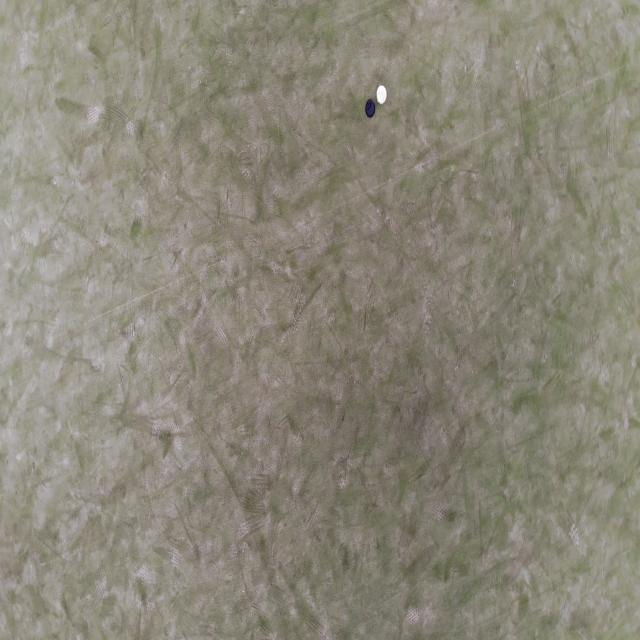rubbish: (376, 85, 387, 104), (366, 99, 374, 115)
